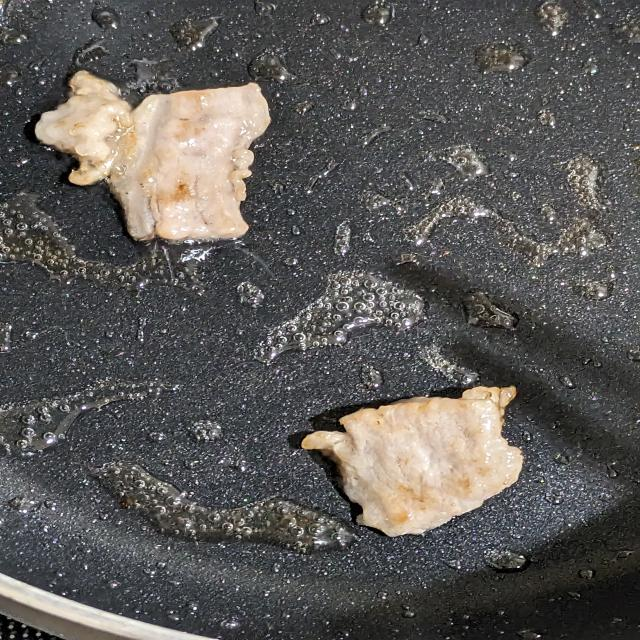OK cooked pork,: (14, 60, 280, 253), (281, 378, 543, 549)
